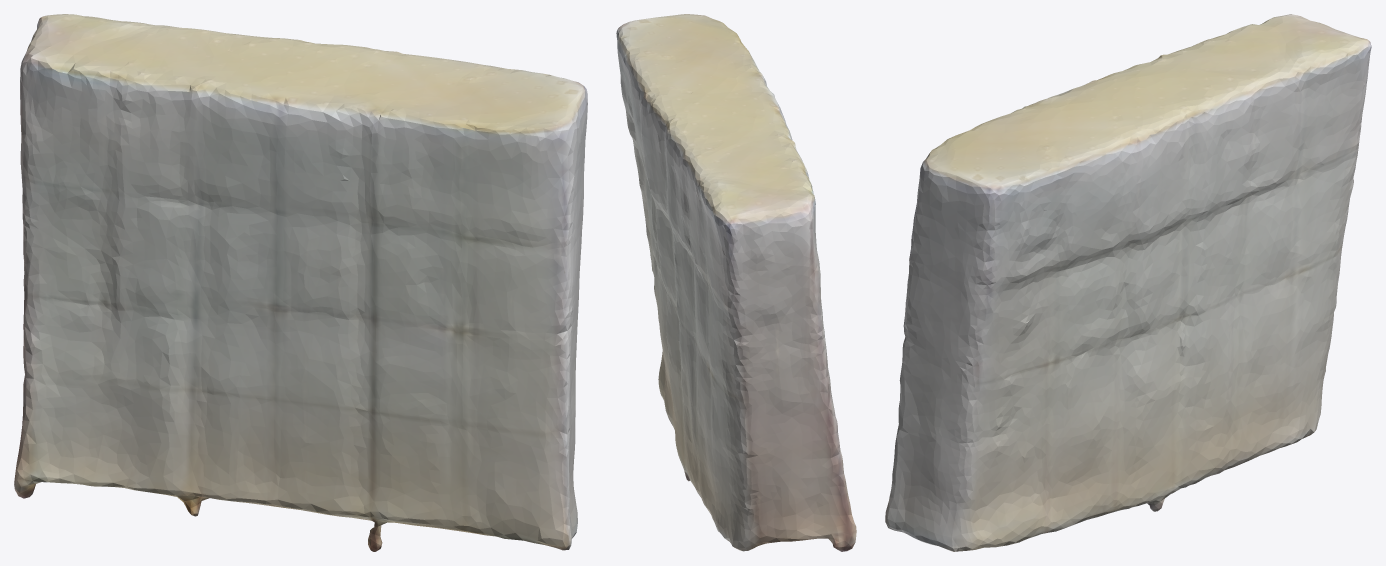
The model's file is SESSION_1709322029_4794408_preview.gltf.
3 views of the same model, side by side, from view 1: azimuth 30°, elevation 25°; view 2: azimuth 150°, elevation 25°; view 3: azimuth 270°, elevation 25° (orthographic). The views are drawn at different scales.
Parts seen in each view (by area): view 1: output; view 2: output; view 3: output.
Part boxes in pixels (x1,y1,x2,y2): output: (14,14,587,551); output: (616,14,856,551); output: (885,14,1371,551).
Bounding box in the file's own units: 1.22 × 1.22 × 1.32.
1 material, 1 textured.
